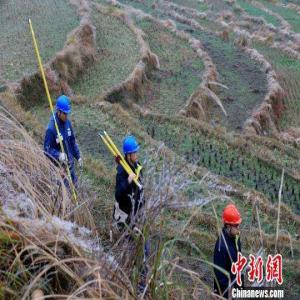blue: (123, 135, 140, 165), (57, 95, 71, 124)
red: (223, 204, 241, 238)
